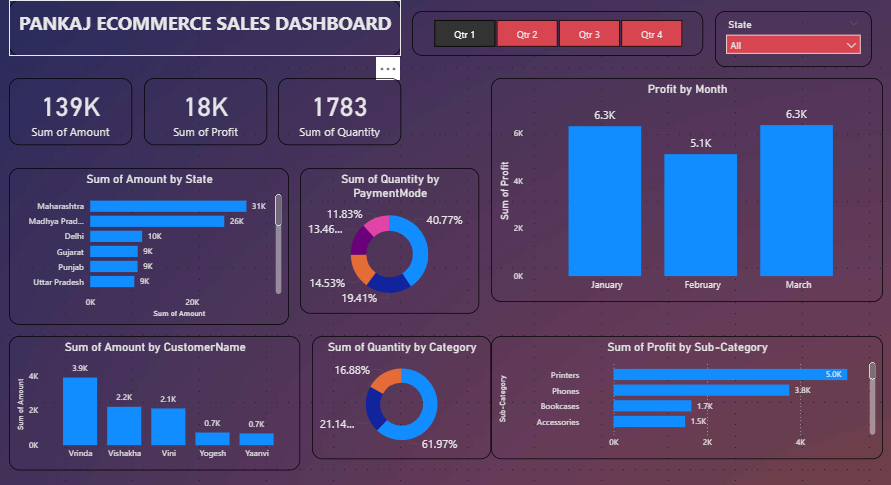

What the dashboard file says about the page in this screenshot:
{"tool":"powerbi","page":{"name":"Page 1","canvas":[1280,720],"ordinal":0},"visuals":[{"type":"textbox","box":[16,0,560,80],"z":0},{"type":"card","fields":{"Values":["Details.Amount"]},"box":[16,112,176,96],"z":1000},{"type":"card","fields":{"Values":["Details.Profit"]},"box":[208,112,176,96],"z":2000},{"type":"card","fields":{"Values":["Details.Quantity"]},"box":[400,112,176,96],"z":3000},{"type":"columnChart","title":"Profit by Month","fields":{"Y":["Details.Profit"],"Category":["Orders (1).Order Date.Variation.Date Hierarchy.Month"]},"box":[704,112,560,320],"z":4000},{"type":"barChart","fields":{"Category":["Orders (1).State"],"Y":["Details.Amount"]},"box":[16,240,400,224],"z":5000},{"type":"donutChart","fields":{"Y":["Details.Quantity"],"Category":["Details.Category"]},"box":[448,480,256,176],"z":6000},{"type":"columnChart","fields":{"Y":["Details.Amount"],"Category":["Orders (1).CustomerName"]},"box":[16,480,416,192],"z":7000},{"type":"donutChart","fields":{"Category":["Details.PaymentMode"],"Y":["Details.Quantity"]},"box":[432,240,256,208],"z":8000},{"type":"slicer","fields":{"Values":["Orders (1).Order Date.Variation.Date Hierarchy.Quarter"]},"box":[592,16,416,64],"z":9000},{"type":"slicer","fields":{"Values":["Orders (1).State"]},"box":[1024,16,224,80],"z":10000},{"type":"barChart","fields":{"Y":["Details.Profit"],"Category":["Details.Sub-Category"]},"box":[704,480,560,176],"z":11000}]}

Visuals, with their boxes on the page's 1280x720 design canvas (x1, y1, x2, y2). These are canvas units, not pixel positions in the 891x485 screenshot, which may show the page scaled, cropped or inside an application window:
textbox: Rect(16, 0, 576, 80)
card - Details.Amount: Rect(16, 112, 192, 208)
card - Details.Profit: Rect(208, 112, 384, 208)
card - Details.Quantity: Rect(400, 112, 576, 208)
"Profit by Month" columnChart: Rect(704, 112, 1264, 432)
barChart - Orders (1).State x Details.Amount: Rect(16, 240, 416, 464)
donutChart - Details.Quantity x Details.Category: Rect(448, 480, 704, 656)
columnChart - Details.Amount x Orders (1).CustomerName: Rect(16, 480, 432, 672)
donutChart - Details.PaymentMode x Details.Quantity: Rect(432, 240, 688, 448)
slicer - Orders (1).Order Date.Variation.Date Hierarchy.Quarter: Rect(592, 16, 1008, 80)
slicer - Orders (1).State: Rect(1024, 16, 1248, 96)
barChart - Details.Profit x Details.Sub-Category: Rect(704, 480, 1264, 656)
